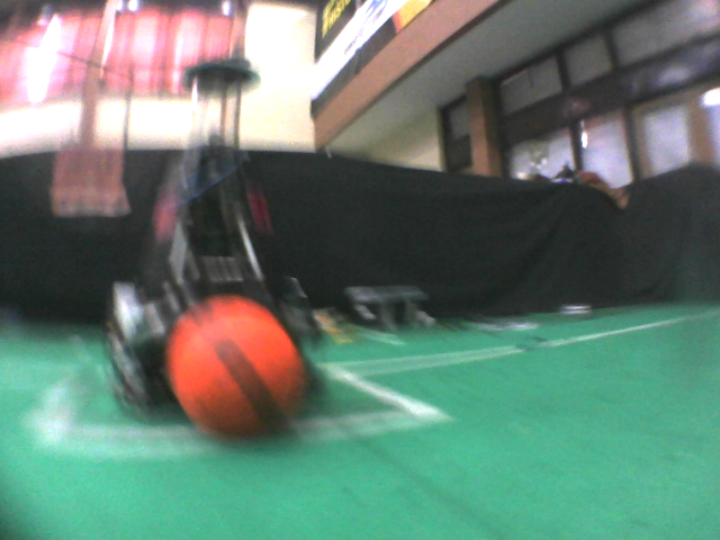bola: (157, 291, 316, 443)
